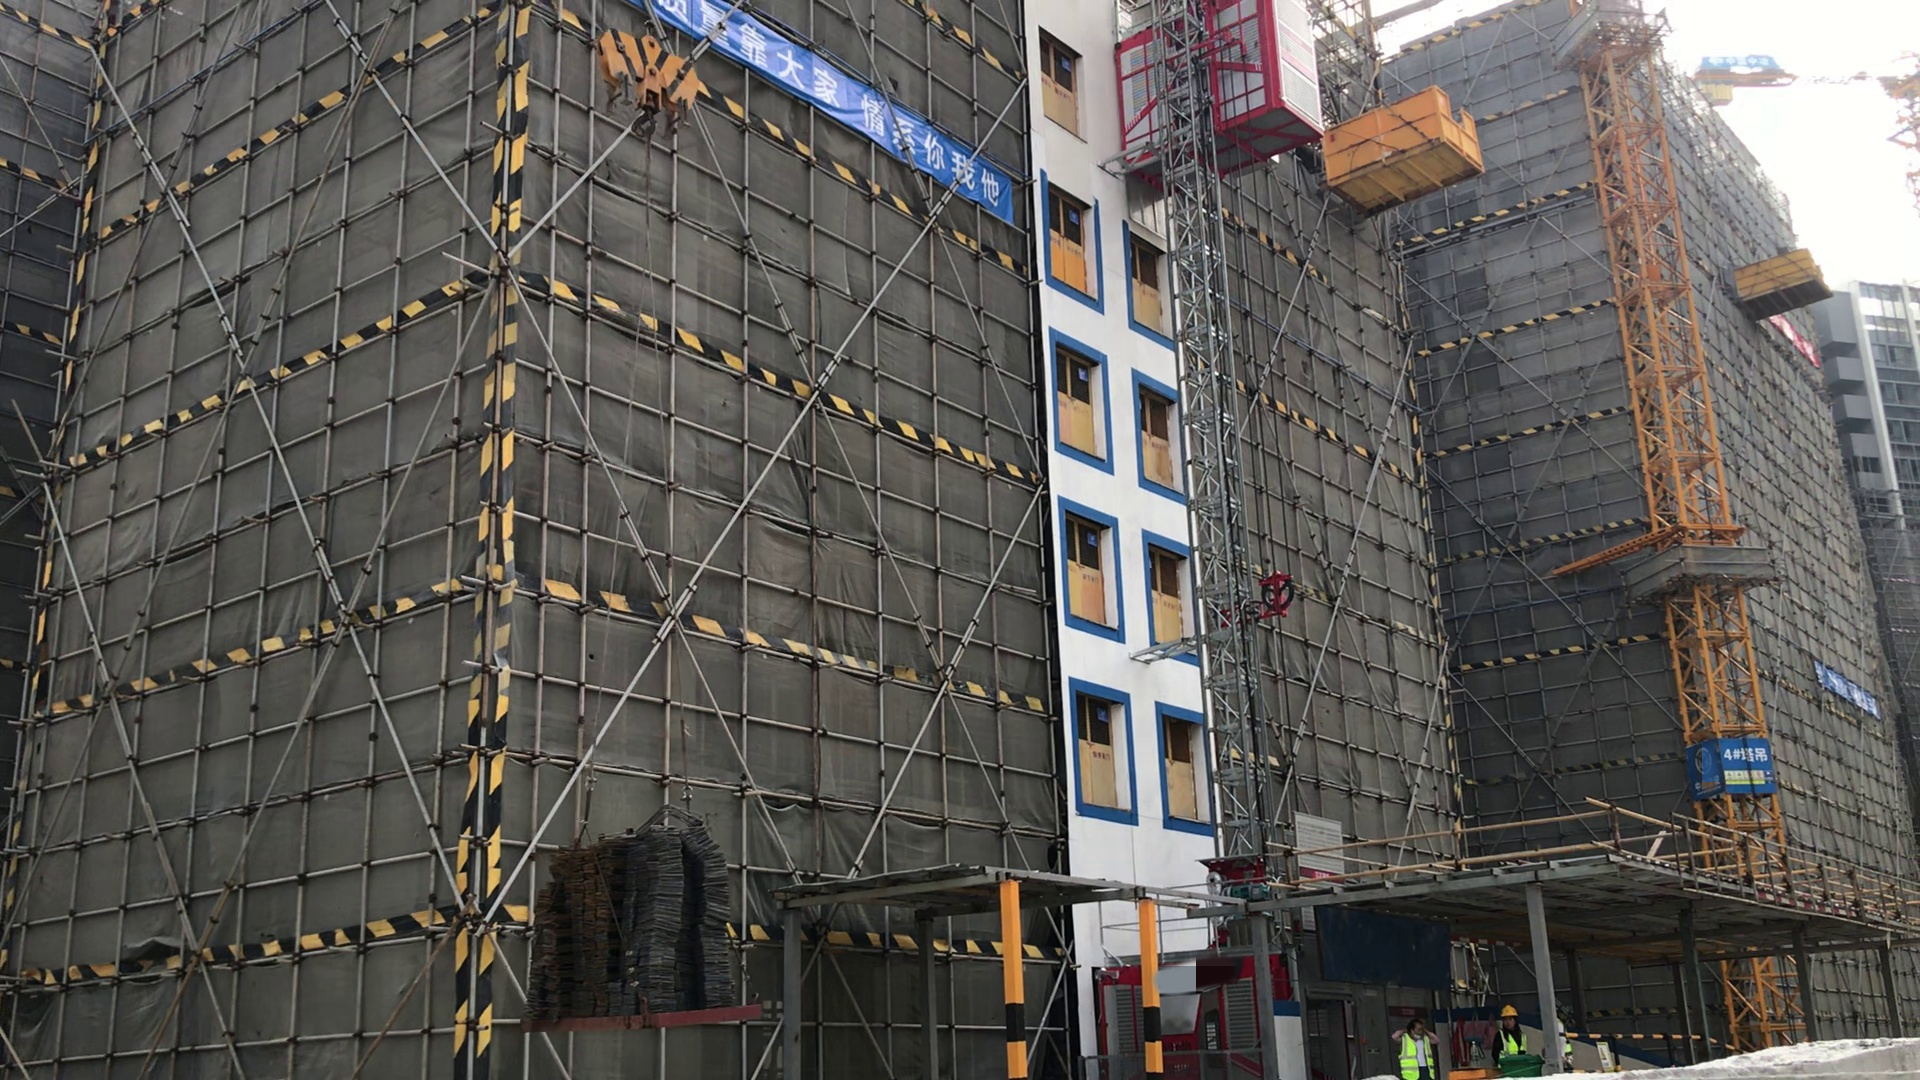helmet: (1501, 1003, 1519, 1017)
hook: (594, 23, 698, 154)
person: (1385, 1013, 1446, 1080), (1496, 1001, 1536, 1064)
slogan: (643, 5, 1018, 227), (1812, 658, 1879, 720), (1724, 767, 1766, 785)
vest: (1397, 1033, 1435, 1079), (1498, 1030, 1527, 1061)
